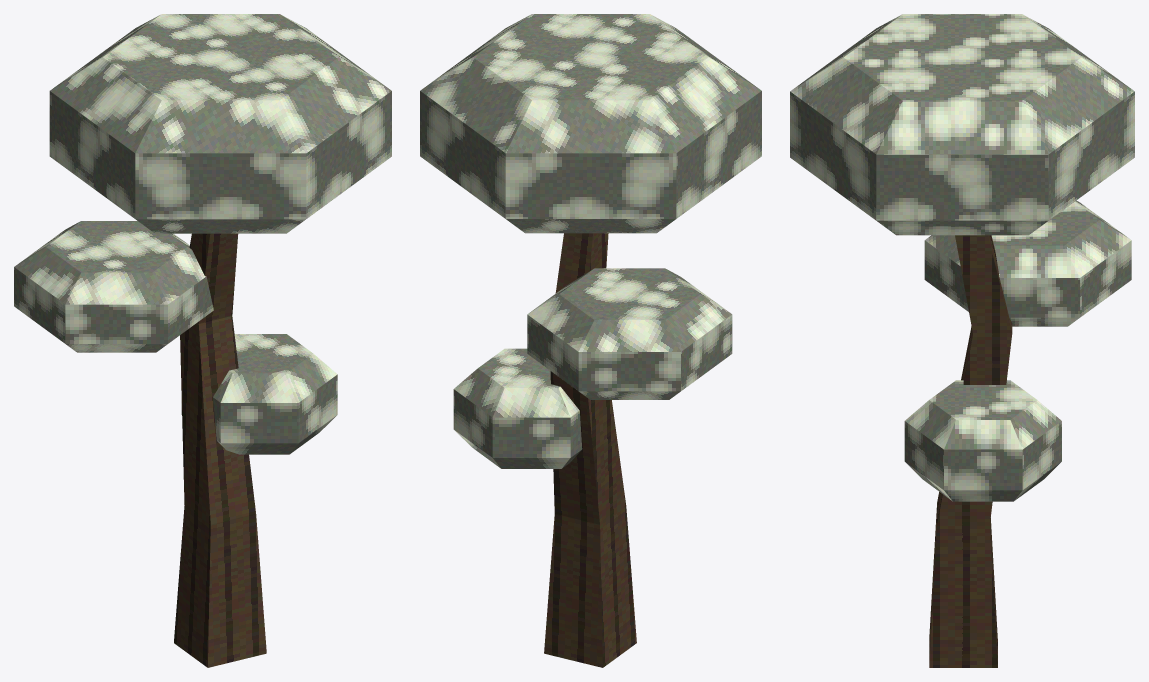
The model's file is lenga.glb.
3 views of the same model, side by side, from view 1: azimuth 30°, elevation 25°; view 2: azimuth 150°, elevation 25°; view 3: azimuth 270°, elevation 25° (orthographic).
Visible parts, largest first — view 1: lenga; view 2: lenga; view 3: lenga.
Part boxes in pixels (x1=…): lenga: x1=14, y1=14, x2=391, y2=667; lenga: x1=420, y1=14, x2=761, y2=667; lenga: x1=790, y1=14, x2=1134, y2=667.
Size of the model in its own units: 5.39 by 11 by 5.77.
Materials: 2 (2 with a texture image).
